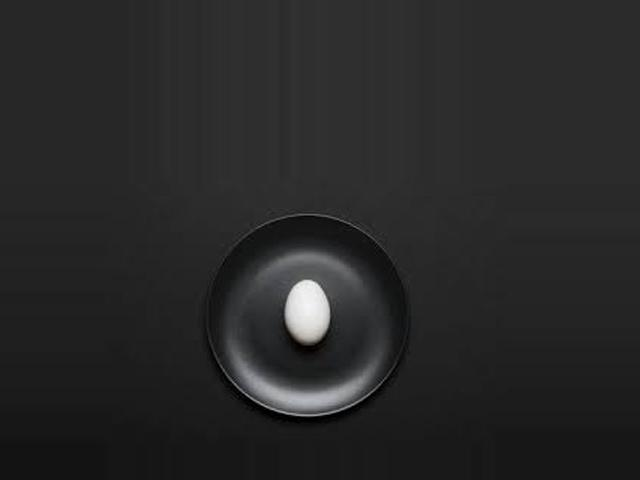egg: (284, 280, 330, 344)
